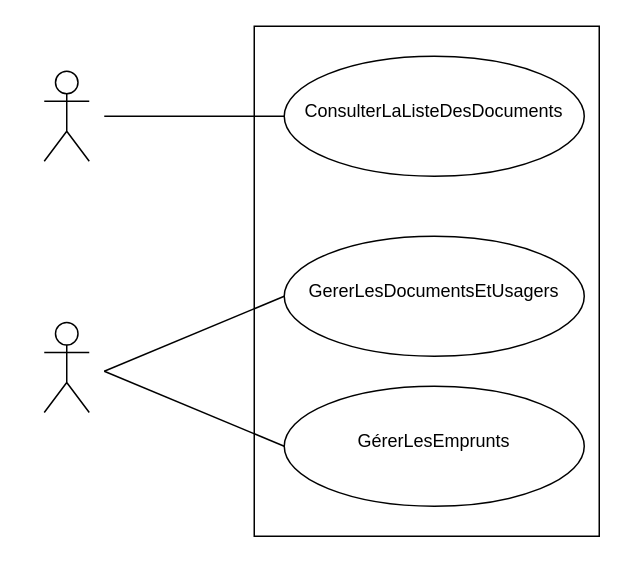
Image size: 626x563. Some labels were removed from this diagram. Each missing label, with the box of its shape:
Personnel: (43, 321, 89, 412)
Usager: (43, 70, 89, 161)
